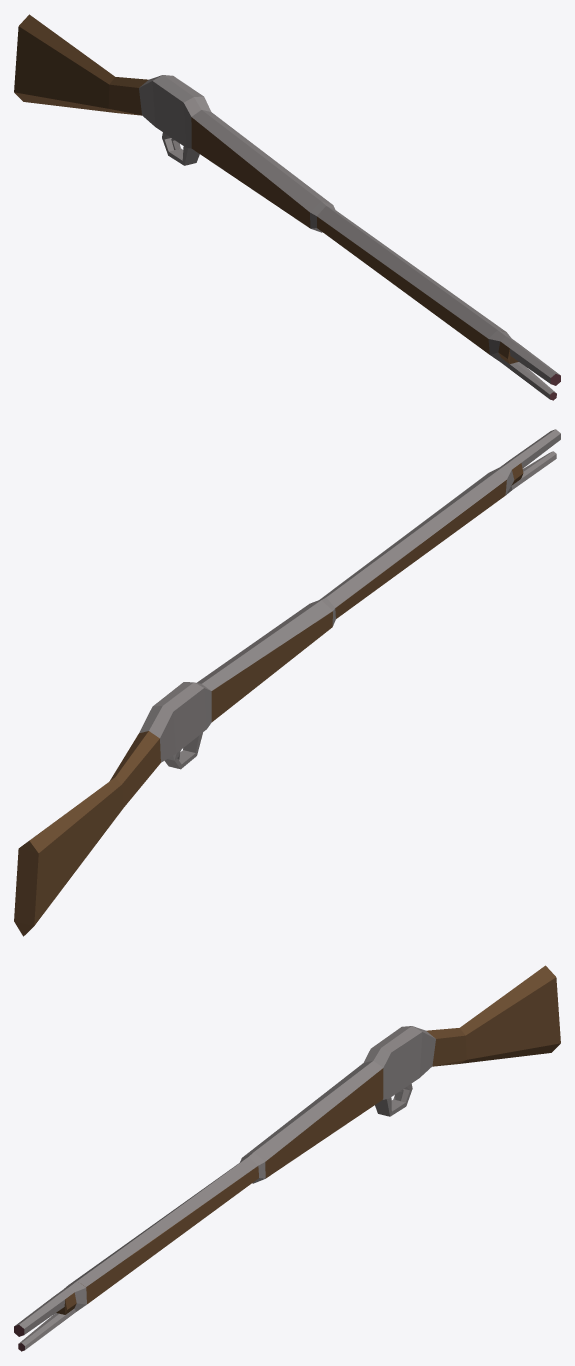
Rendered from rifle-british.fbx.
3 views of the same model, one above another, from view 1: azimuth 30°, elevation 25°; view 2: azimuth 150°, elevation 25°; view 3: azimuth 330°, elevation 25° (orthographic).
Parts seen in each view (by area): view 1: rifle-british; view 2: rifle-british; view 3: rifle-british.
Part boxes in pixels (x1,y1,x2,y2): rifle-british: (14, 14, 560, 400); rifle-british: (14, 429, 560, 936); rifle-british: (14, 965, 560, 1351).
Bounding box in the file's own units: 0.0314 × 0.1643 × 1.22.
